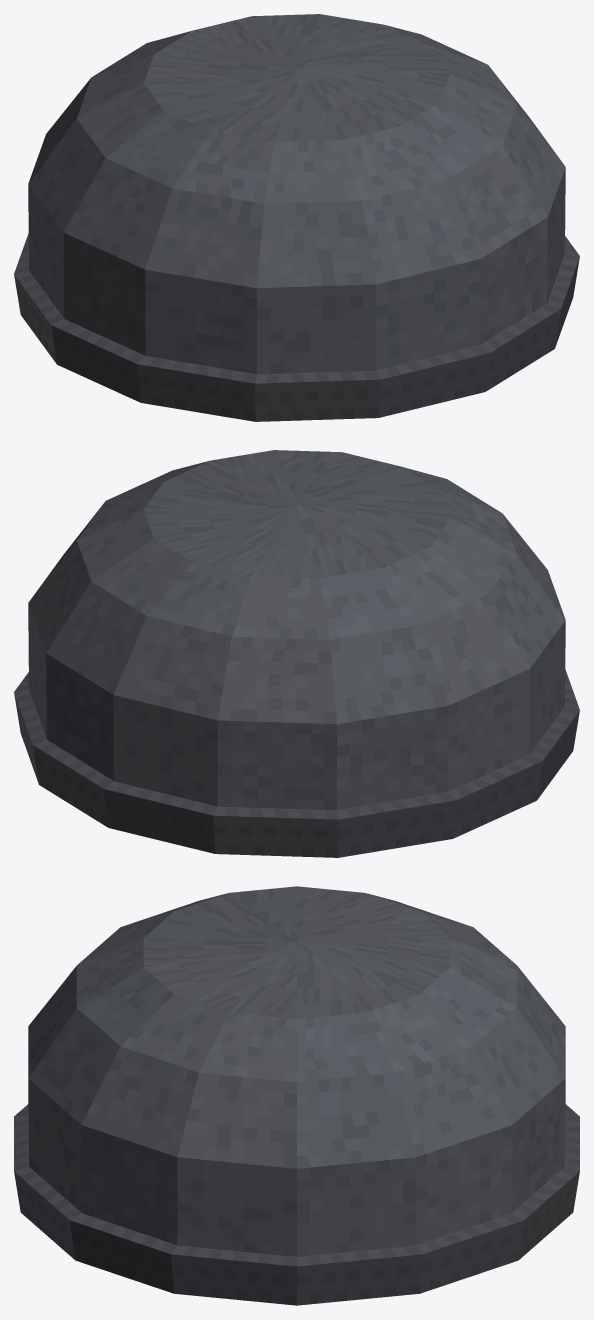
The model's file is hat_cotton.glb.
3 renders of one model, top to bottom at view 1: azimuth 30°, elevation 25°; view 2: azimuth 150°, elevation 25°; view 3: azimuth 270°, elevation 25°, orthographic. The views are drawn at different scales.
Visible parts, largest first — view 1: block_fabric crown, block_turn-up cuff; view 2: block_fabric crown, block_turn-up cuff; view 3: block_fabric crown, block_turn-up cuff.
Part boxes in pixels (x1=…): block_fabric crown: x1=28, y1=14, x2=565, y2=374; block_turn-up cuff: x1=14, y1=233, x2=579, y2=421; block_fabric crown: x1=28, y1=450, x2=565, y2=810; block_turn-up cuff: x1=14, y1=669, x2=579, y2=857; block_fabric crown: x1=28, y1=886, x2=565, y2=1256; block_turn-up cuff: x1=14, y1=1104, x2=579, y2=1305.
Size of the model in its own units: 0.202 by 0.0932 by 0.1969.
1 material, 1 textured.
